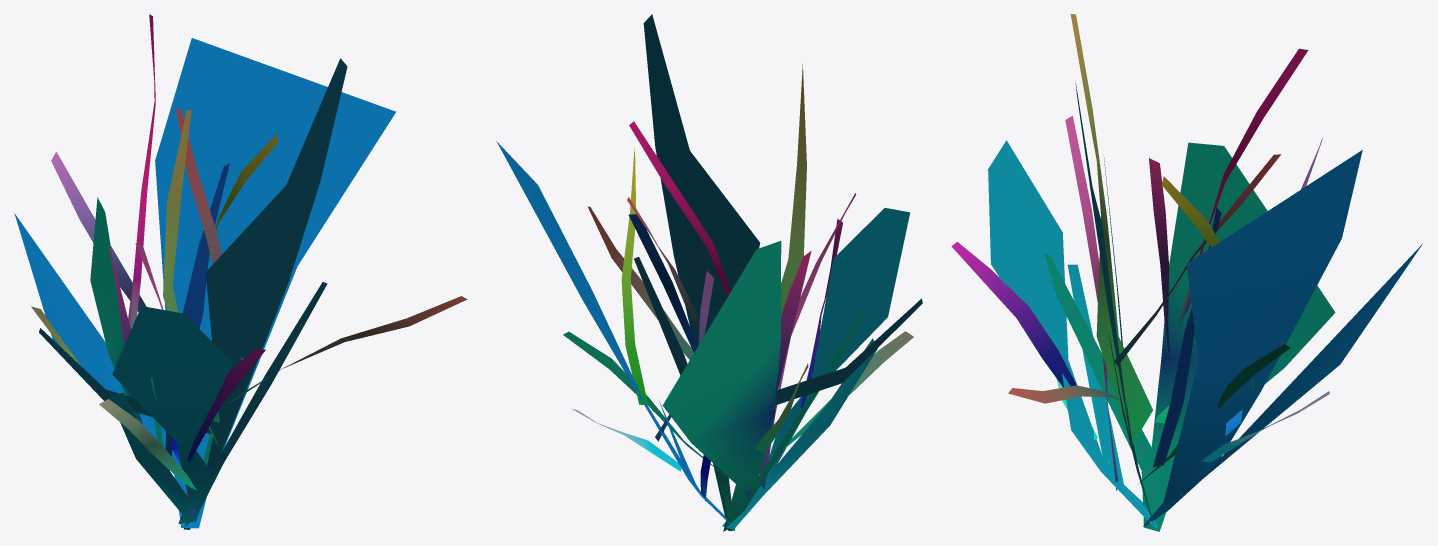
Rendered from Curbside_Weeds_ujzjfexja_Mid_ujzjfexja_VarB_LOD0.fbx.
The picture shows the model from 3 angles, left to right: view 1: azimuth 30°, elevation 25°; view 2: azimuth 150°, elevation 25°; view 3: azimuth 270°, elevation 25°; orthographic projection. The views are drawn at different scales.
Visible parts, largest first — view 1: _tucl_VarB_LOD1; view 2: _tucl_VarB_LOD1; view 3: _tucl_VarB_LOD1.
Part boxes in pixels (x1,y1,x2,y2): _tucl_VarB_LOD1: [14, 14, 467, 529]; _tucl_VarB_LOD1: [496, 14, 922, 531]; _tucl_VarB_LOD1: [951, 14, 1422, 531].
Size of the model in its own units: 13.8 by 15.7 by 13.14.
